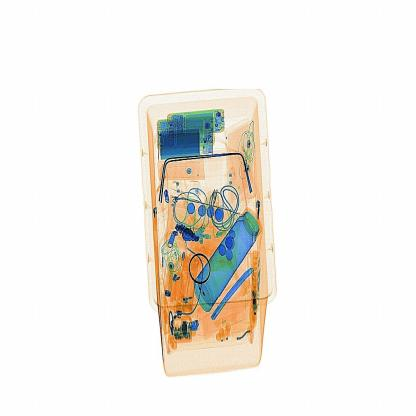pliers: (205, 264, 262, 326)
